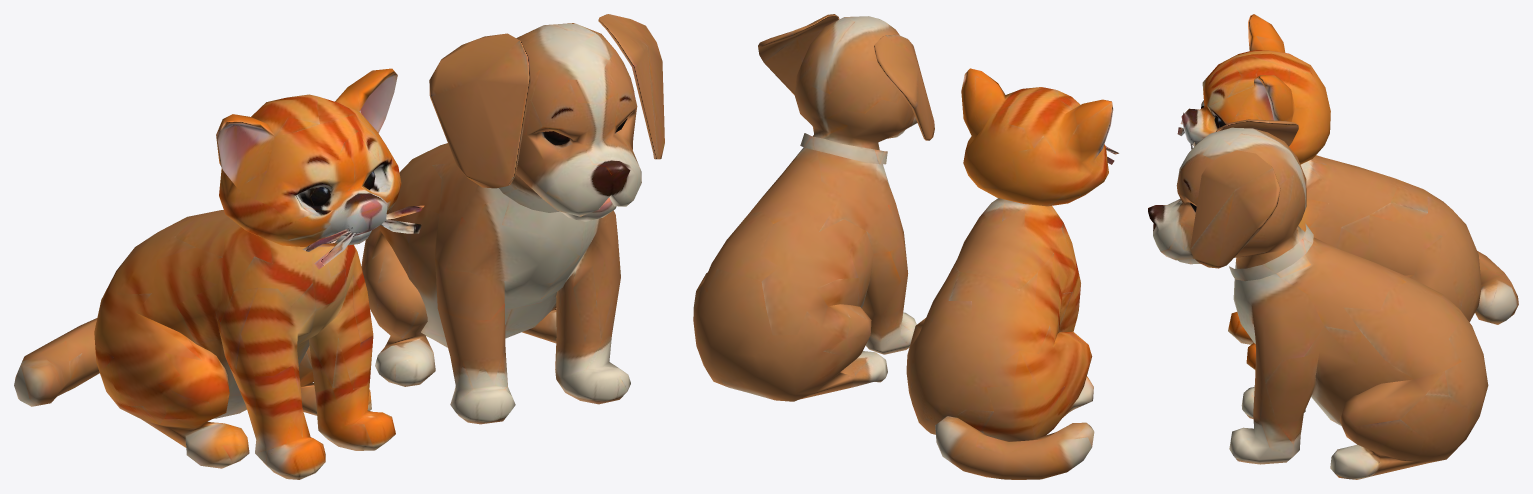
The model's file is cat_dog.glb.
3 views of the same model, side by side, from view 1: azimuth 30°, elevation 25°; view 2: azimuth 150°, elevation 25°; view 3: azimuth 270°, elevation 25° (orthographic). The views are drawn at different scales.
Size of the model in its own units: 1 by 0.6992 by 0.7578.
Materials: 1 (1 with a texture image).
